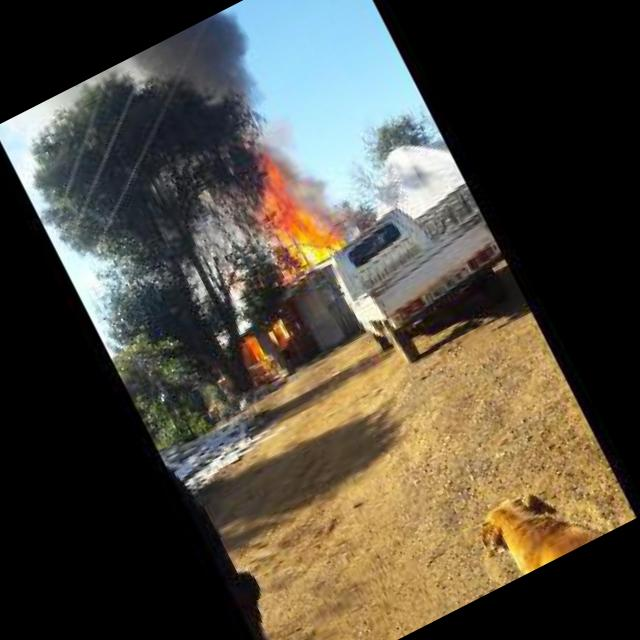fire: (262, 130, 326, 280), (250, 336, 278, 371)
smoke: (190, 3, 316, 185)
